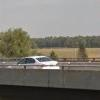Car: (12, 50, 73, 77)
